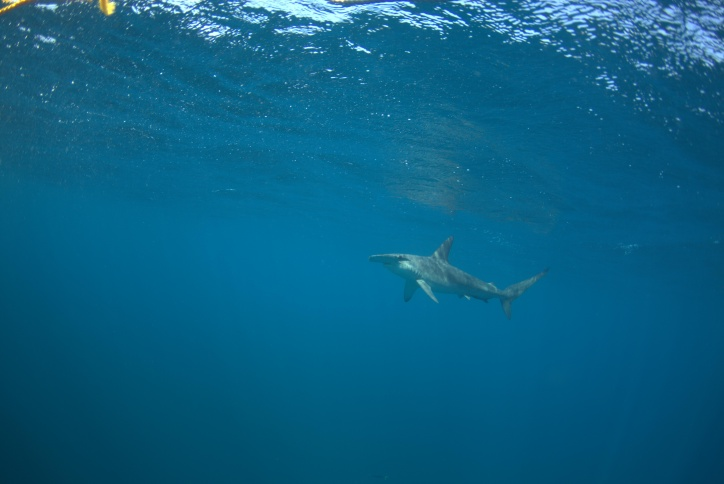Hammer: (353, 231, 586, 352)
